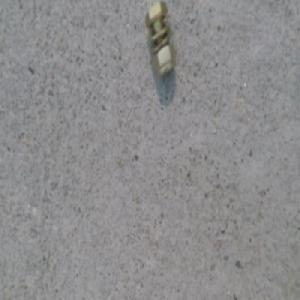BoltNutSet: (148, 7, 177, 82)
